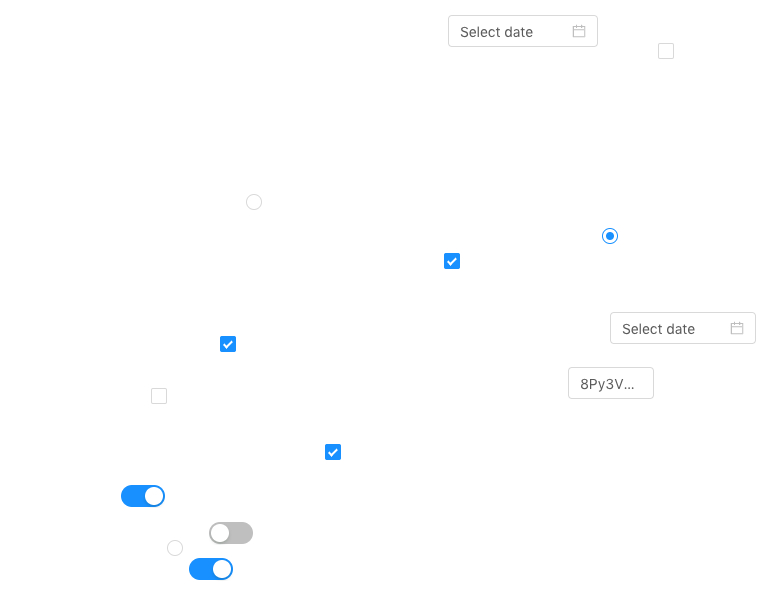Checkbox: (220, 333, 236, 354), (325, 441, 341, 462), (151, 385, 167, 406), (658, 40, 674, 61), (444, 250, 460, 271)
DatePicker: (448, 15, 598, 47), (610, 312, 756, 344)
Input: (568, 367, 654, 399)
Radio: (602, 225, 618, 245), (167, 537, 183, 557), (246, 191, 262, 211)
Switch: (209, 521, 253, 545), (121, 484, 165, 508), (189, 557, 233, 581)
